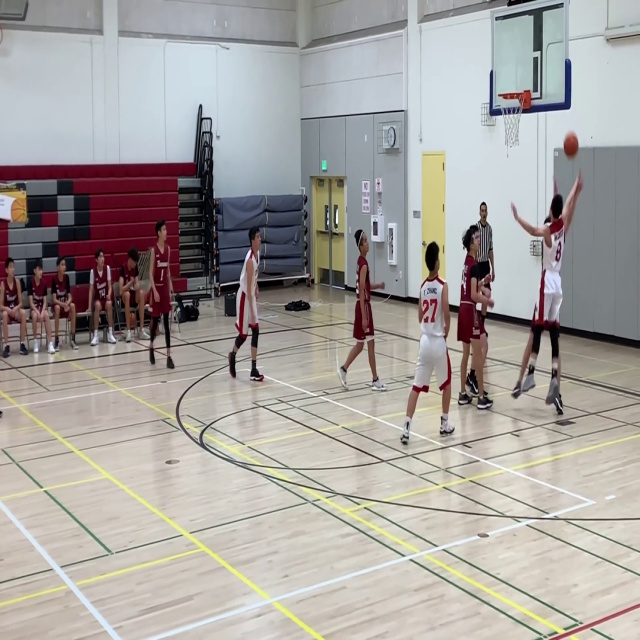Basketball: (563, 131, 578, 156)
